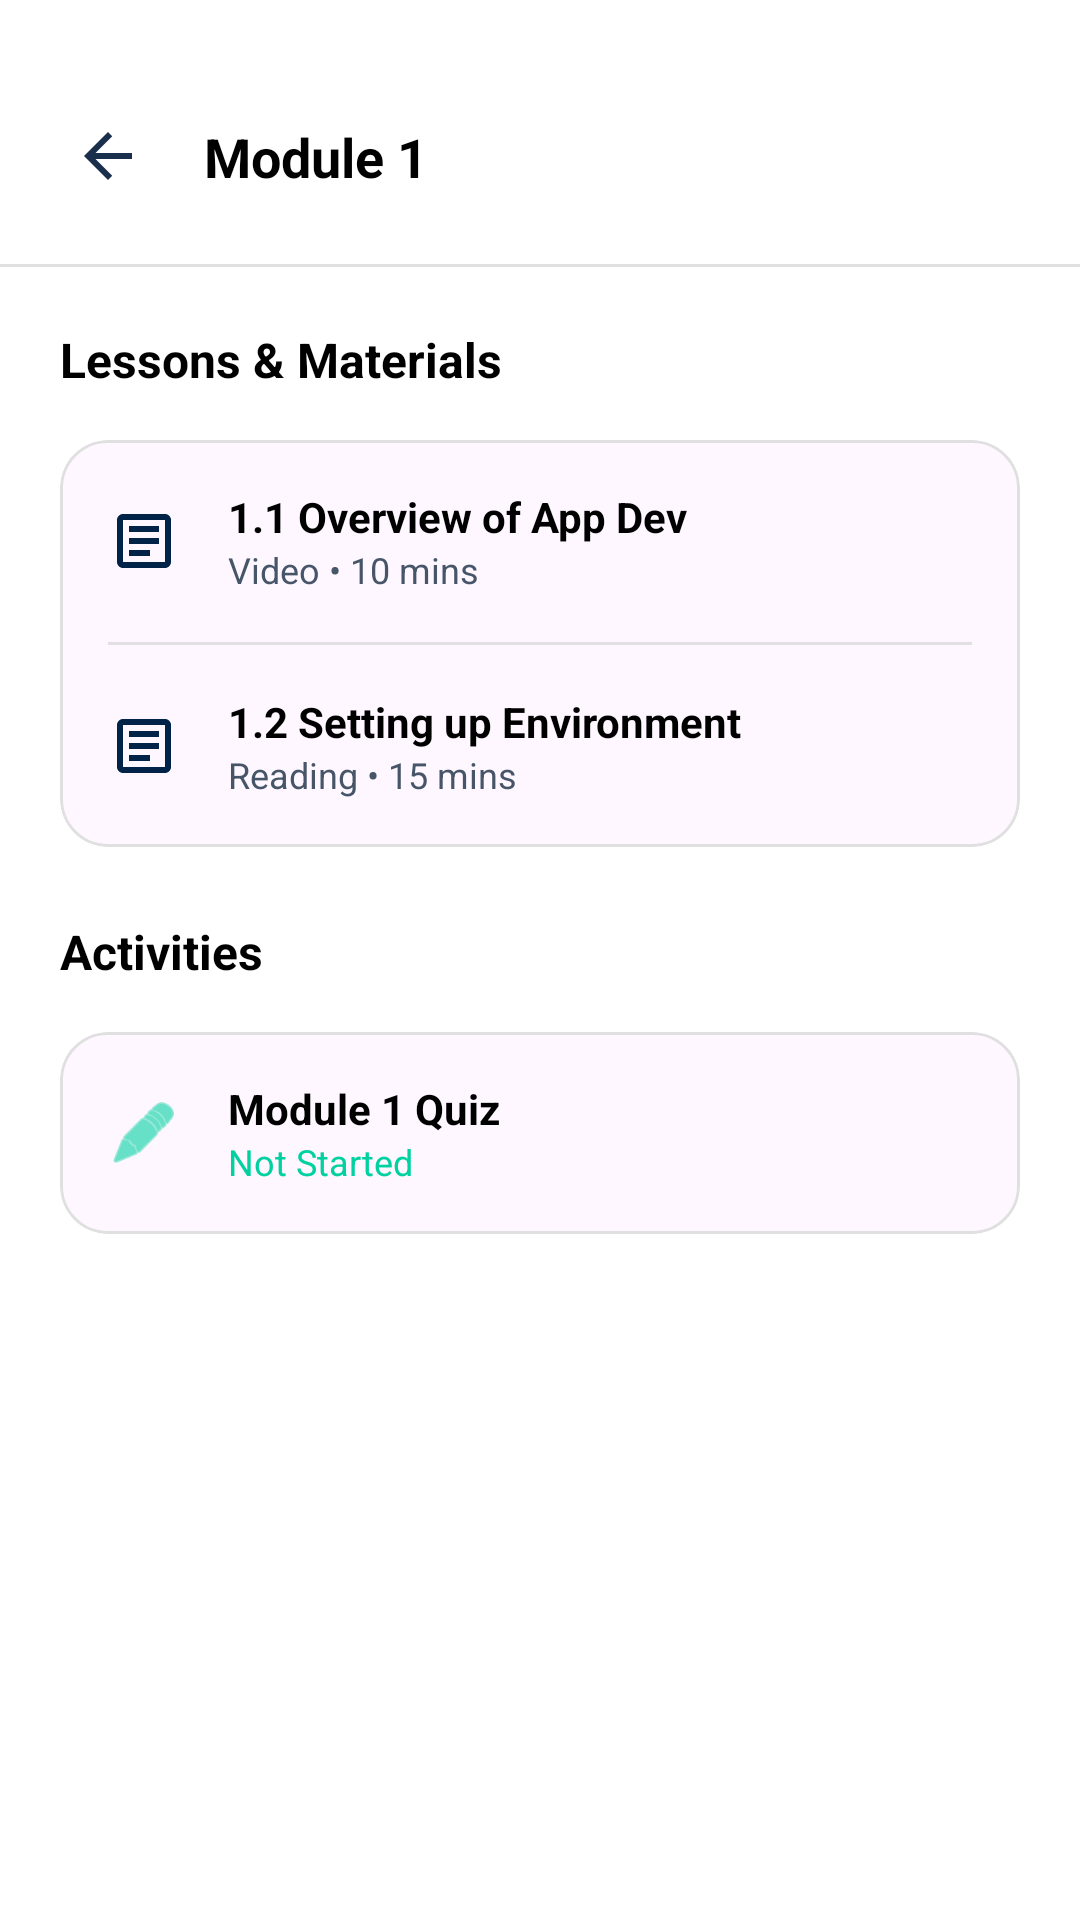

Where icons sit on this 1080×1920 app screen, as (x1, y1, x2, y2):
back: (84, 132, 132, 180)
edit: (113, 1102, 174, 1163)
